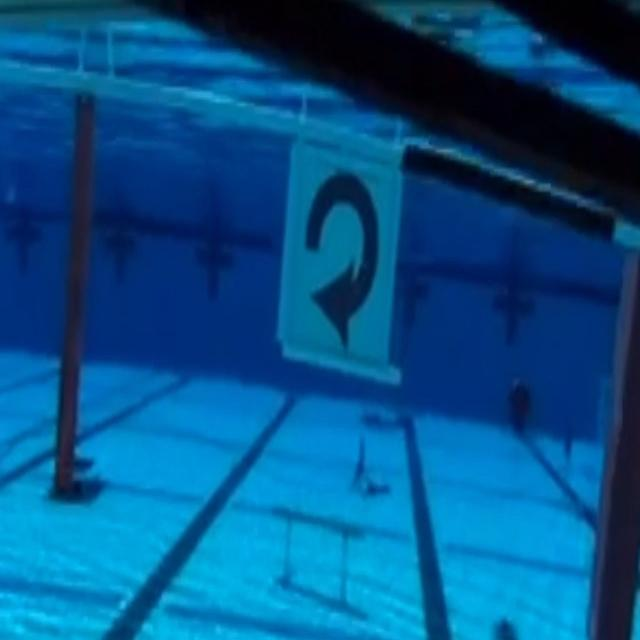Gate: (65, 74, 640, 625)
